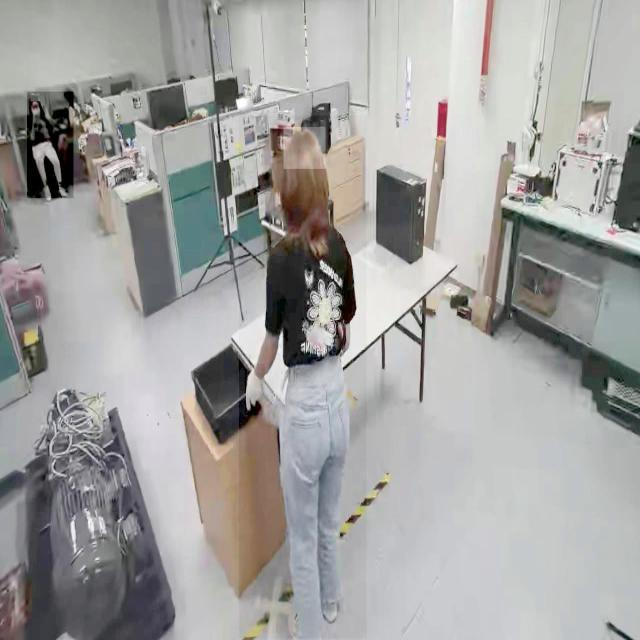face_mask: (32, 98, 42, 129)
hand_glove: (244, 364, 264, 416)
head_nohelmet: (283, 127, 325, 170), (30, 94, 40, 102)
person: (238, 116, 366, 639), (26, 92, 74, 199)
